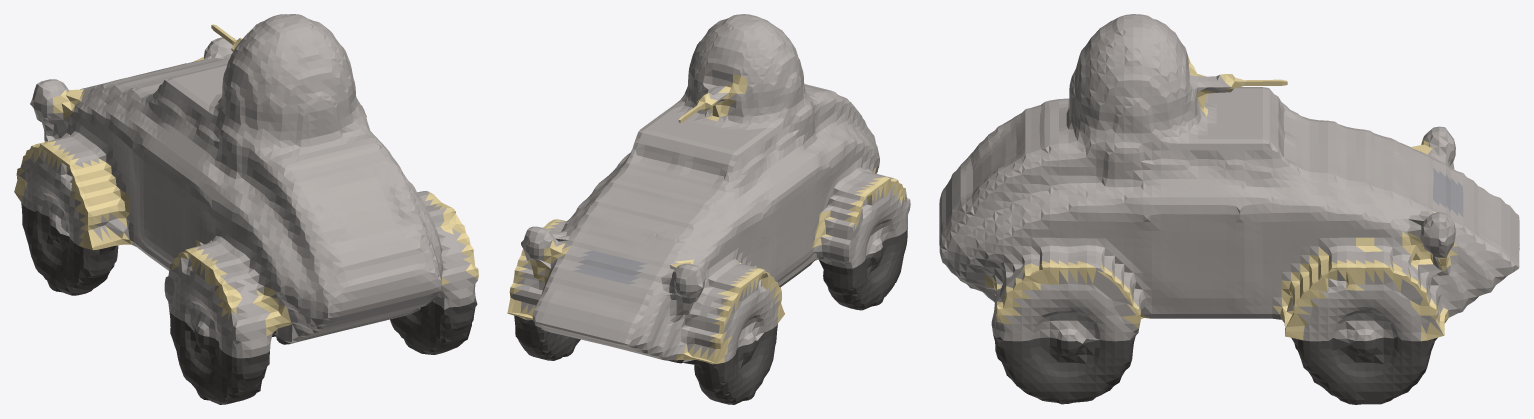
File: unit_dart.glb
The picture shows the model from 3 angles, left to right: view 1: azimuth 30°, elevation 25°; view 2: azimuth 150°, elevation 25°; view 3: azimuth 270°, elevation 25°; orthographic projection. The views are drawn at different scales.
Visible parts, largest first — view 1: Mesh_0.040; view 2: Mesh_0.040; view 3: Mesh_0.040.
Boxes of the visible parts, <box> form: Mesh_0.040: <box>14,14,478,404</box>; Mesh_0.040: <box>507,14,910,404</box>; Mesh_0.040: <box>939,14,1519,404</box>.
Bounding box in the file's own units: 1.33 × 1.68 × 2.7.
